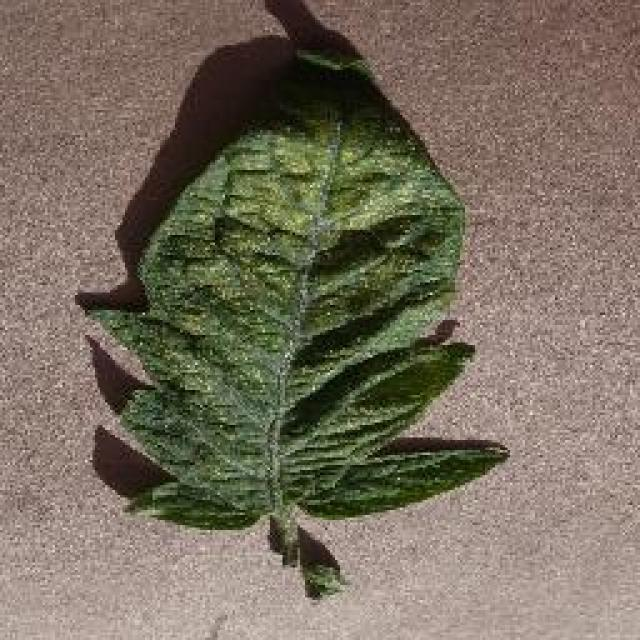Tomato___Spider_mites Two-spotted_spider_mite: (88, 52, 508, 562), (302, 560, 340, 595)
